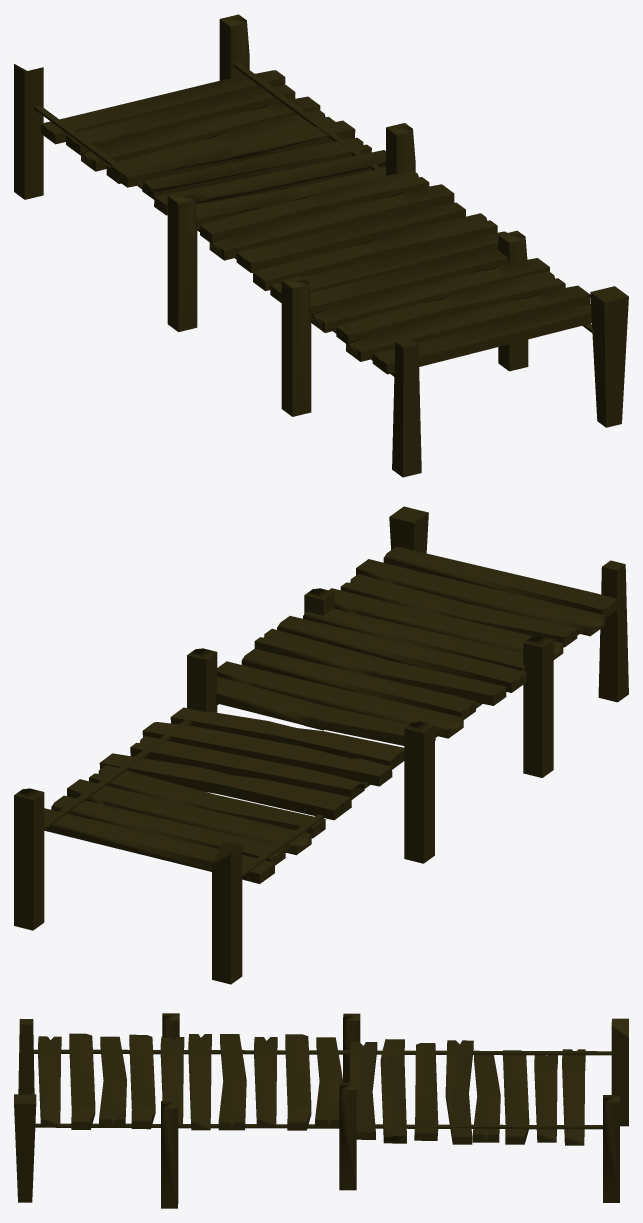
The model's file is prop_dock.glb.
3 renders of one model, top to bottom at view 1: azimuth 30°, elevation 25°; view 2: azimuth 150°, elevation 25°; view 3: azimuth 270°, elevation 25°, orthographic. The views are drawn at different scales.
Parts seen in each view (by area): view 1: prop_dock; view 2: prop_dock; view 3: prop_dock.
Boxes of the visible parts, x1,y1,x2,y2 form: prop_dock: (14, 14, 628, 477); prop_dock: (14, 506, 628, 984); prop_dock: (14, 1013, 628, 1208).
Size of the model in its own units: 8.21 by 4.79 by 22.35.
